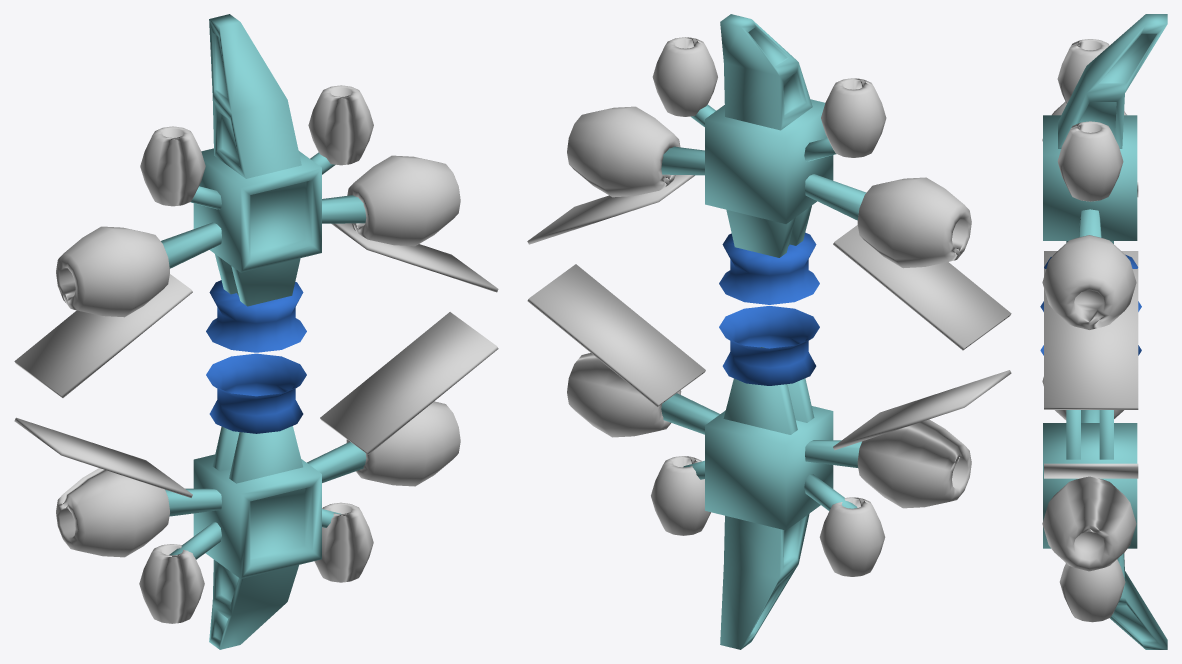
Rendered from SpaceShip.fbx.
3 renders of one model, left to right at view 1: azimuth 30°, elevation 25°; view 2: azimuth 150°, elevation 25°; view 3: azimuth 270°, elevation 25°, orthographic.
Visible parts, largest first — view 1: Plane; view 2: Plane; view 3: Plane.
Boxes of the visible parts, left/top/right/bottom form: Plane: left=14, top=14, right=498, bottom=649; Plane: left=527, top=14, right=1011, bottom=649; Plane: left=1040, top=14, right=1167, bottom=649.
Bounding box in the file's own units: 10.75 × 14.63 × 2.7.
